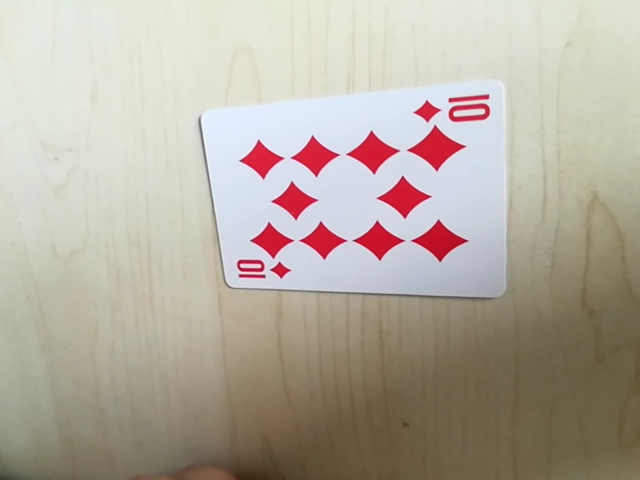fk 10: (413, 88, 496, 128), (231, 258, 292, 289)
